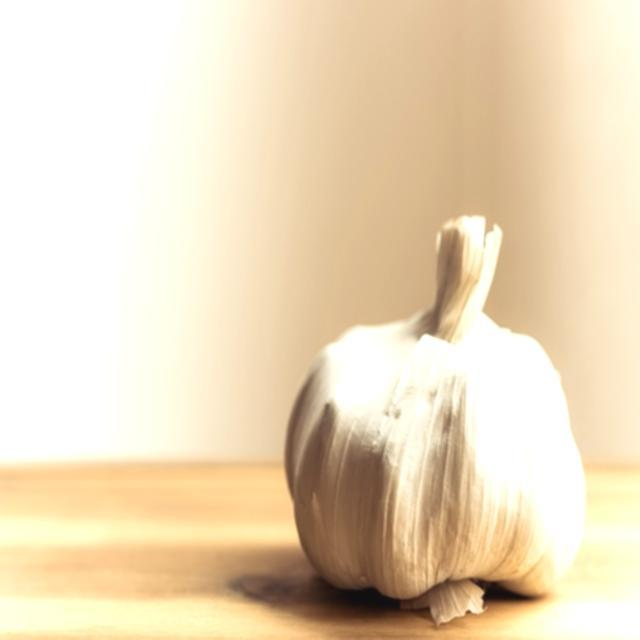garlic: (285, 216, 584, 620)
